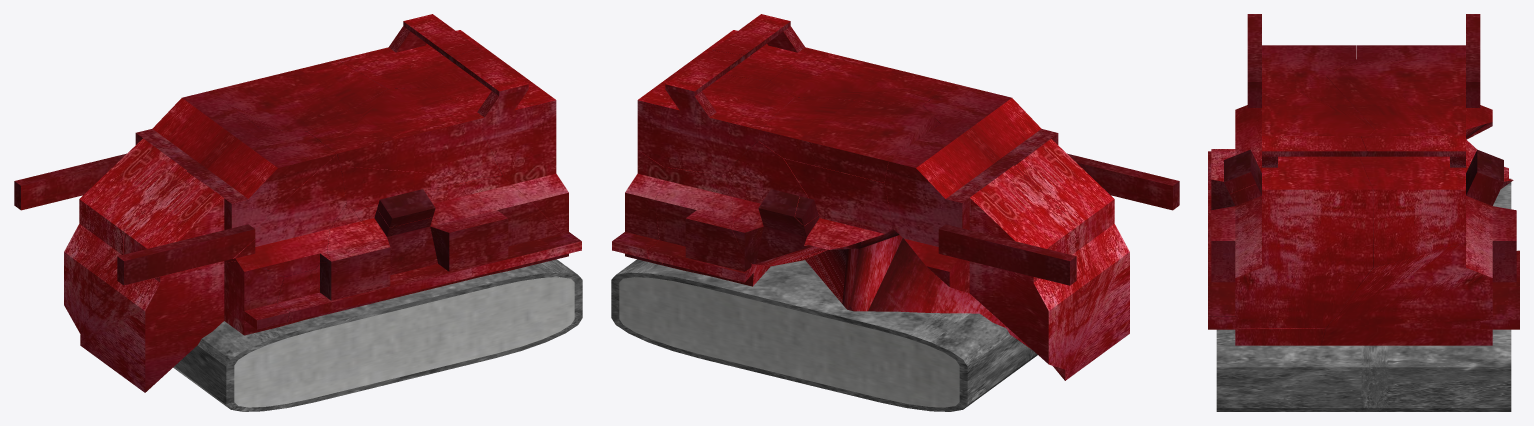
Rendered from EnemyShattered1.fbx.
3 renders of one model, left to right at view 1: azimuth 30°, elevation 25°; view 2: azimuth 150°, elevation 25°; view 3: azimuth 270°, elevation 25°, orthographic. The views are drawn at different scales.
Parts seen in each view (by area): view 1: Cube.001, Cube_cell.016, Cube_cell.003, Cube_cell.007, Cube_cell.017, Cube_cell.010, Cube_cell.004, Cube_cell.002, Cube_cell.011, Cube_cell, Cube_cell.006, Cube_cell.013 (+3 smaller); view 2: Cube.001, Cube_cell.016, Cube_cell.013, Cube_cell.002, Cube_cell.005, Cube_cell.008, Cube_cell.018, Cube_cell.004, Cube_cell.003, Cube_cell.017, Cube_cell.014, Cube_cell (+2 smaller); view 3: Cube_cell.010, Cube.001, Cube_cell.001, Cube_cell.013, Cube_cell.002, Cube_cell.007, Cube_cell.017, Cube_cell.016, Cube_cell.005, Cube_cell, Cube_cell.018, Cube_cell.011 (+3 smaller).
Boxes of the visible parts, left/top/right/bottom form: Cube.001: left=173, top=259, right=582, bottom=411; Cube_cell.016: left=14, top=91, right=260, bottom=333; Cube_cell.003: left=80, top=261, right=289, bottom=392; Cube_cell.007: left=343, top=166, right=581, bottom=291; Cube_cell.017: left=307, top=87, right=502, bottom=177; Cube_cell.010: left=433, top=48, right=581, bottom=248; Cube_cell.004: left=117, top=171, right=300, bottom=285; Cube_cell.002: left=209, top=59, right=387, bottom=131; Cube_cell.011: left=222, top=154, right=346, bottom=276; Cube_cell: left=187, top=129, right=336, bottom=203; Cube_cell.006: left=316, top=203, right=429, bottom=315; Cube_cell.013: left=338, top=14, right=503, bottom=89; Cube.001: left=611, top=259, right=1037, bottom=411; Cube_cell.016: left=884, top=123, right=1085, bottom=369; Cube_cell.013: left=637, top=50, right=794, bottom=174; Cube_cell.002: left=758, top=97, right=939, bottom=182; Cube_cell.005: left=647, top=167, right=770, bottom=286; Cube_cell.008: left=805, top=235, right=1031, bottom=349; Cube_cell.018: left=722, top=141, right=827, bottom=266; Cube_cell.004: left=1014, top=133, right=1179, bottom=251; Cube_cell.003: left=1053, top=209, right=1129, bottom=380; Cube_cell.017: left=769, top=49, right=952, bottom=105; Cube_cell.014: left=784, top=158, right=899, bottom=249; Cube_cell: left=923, top=83, right=1057, bottom=165; Cube_cell.010: left=1208, top=136, right=1372, bottom=328; Cube.001: left=1216, top=178, right=1511, bottom=411; Cube_cell.001: left=1321, top=242, right=1519, bottom=345; Cube_cell.013: left=1359, top=126, right=1465, bottom=267; Cube_cell.002: left=1326, top=59, right=1465, bottom=129; Cube_cell.007: left=1208, top=162, right=1326, bottom=345; Cube_cell.017: left=1262, top=76, right=1374, bottom=135; Cube_cell.016: left=1356, top=14, right=1492, bottom=139; Cube_cell.005: left=1466, top=217, right=1519, bottom=301; Cube_cell: left=1262, top=45, right=1355, bottom=75; Cube_cell.018: left=1466, top=157, right=1516, bottom=221; Cube_cell.011: left=1212, top=92, right=1261, bottom=152.
Bounding box in the file's own units: 457 × 241 × 262.
